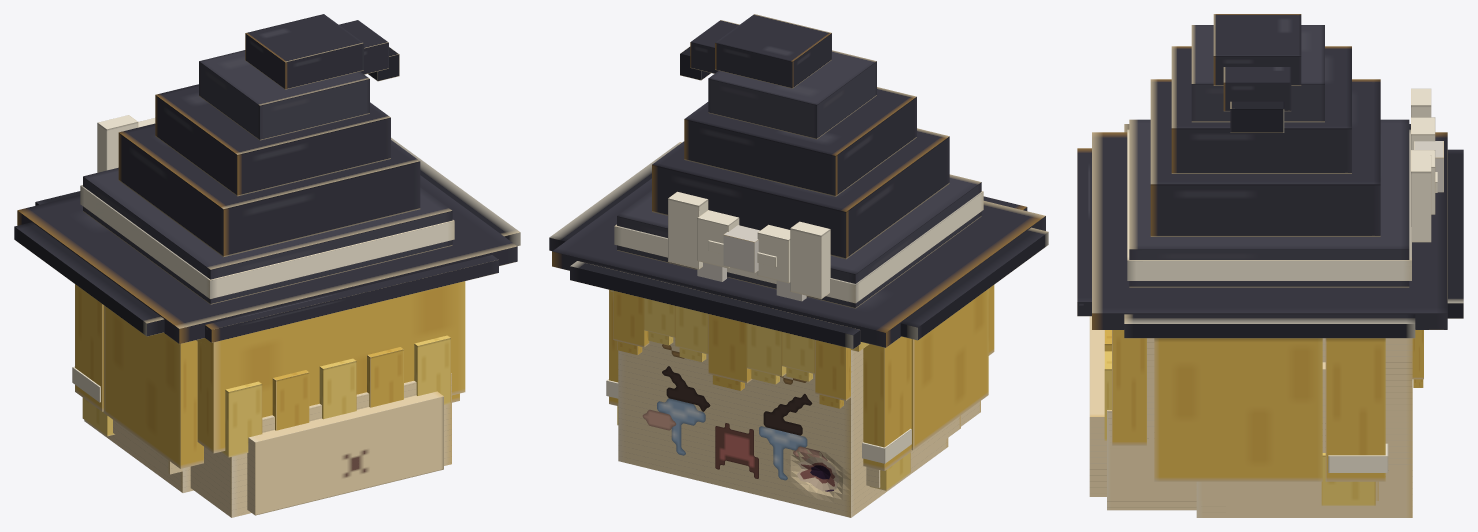
File: tear_marisa_2.obj
3 renders of one model, left to right at view 1: azimuth 30°, elevation 25°; view 2: azimuth 150°, elevation 25°; view 3: azimuth 270°, elevation 25°, orthographic. The views are drawn at different scales.
Visible parts, largest first — view 1: tear_marisa_2; view 2: tear_marisa_2; view 3: tear_marisa_2.
Part boxes in pixels (x1=…): tear_marisa_2: x1=14, y1=14, x2=520, y2=517; tear_marisa_2: x1=549, y1=14, x2=1048, y2=517; tear_marisa_2: x1=1077, y1=14, x2=1463, y2=517.
Bounding box in the file's own units: 19 × 19.34 × 15.53.
1 material, 1 textured.
